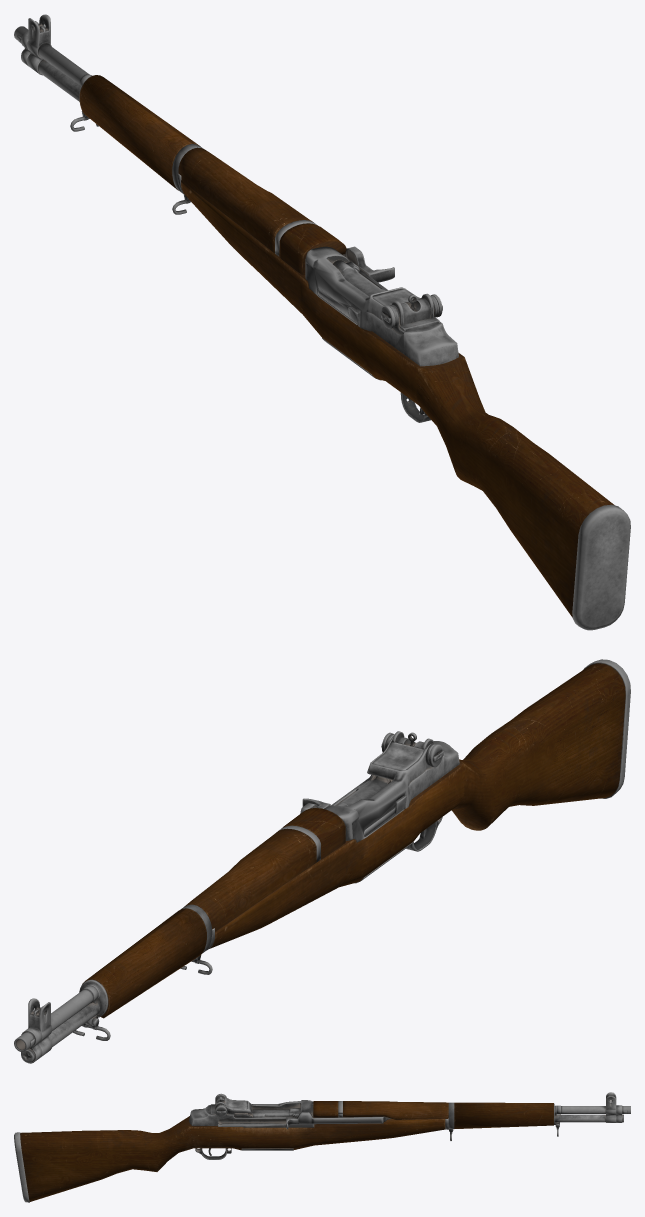
The model's file is M1 Garand.obj.
The picture shows the model from 3 angles, top to bottom: view 1: azimuth 30°, elevation 25°; view 2: azimuth 150°, elevation 25°; view 3: azimuth 270°, elevation 25°; orthographic projection. The views are drawn at different scales.
Visible parts, largest first — view 1: M1_Garand; view 2: M1_Garand; view 3: M1_Garand.
Part boxes in pixels (<box>): M1_Garand: <box>14,14,630,630</box>; M1_Garand: <box>14,659,630,1063</box>; M1_Garand: <box>14,1092,630,1202</box>.
Size of the model in its own units: 0.34 by 0.9023 by 4.76.
Materials: 1 (1 with a texture image).
